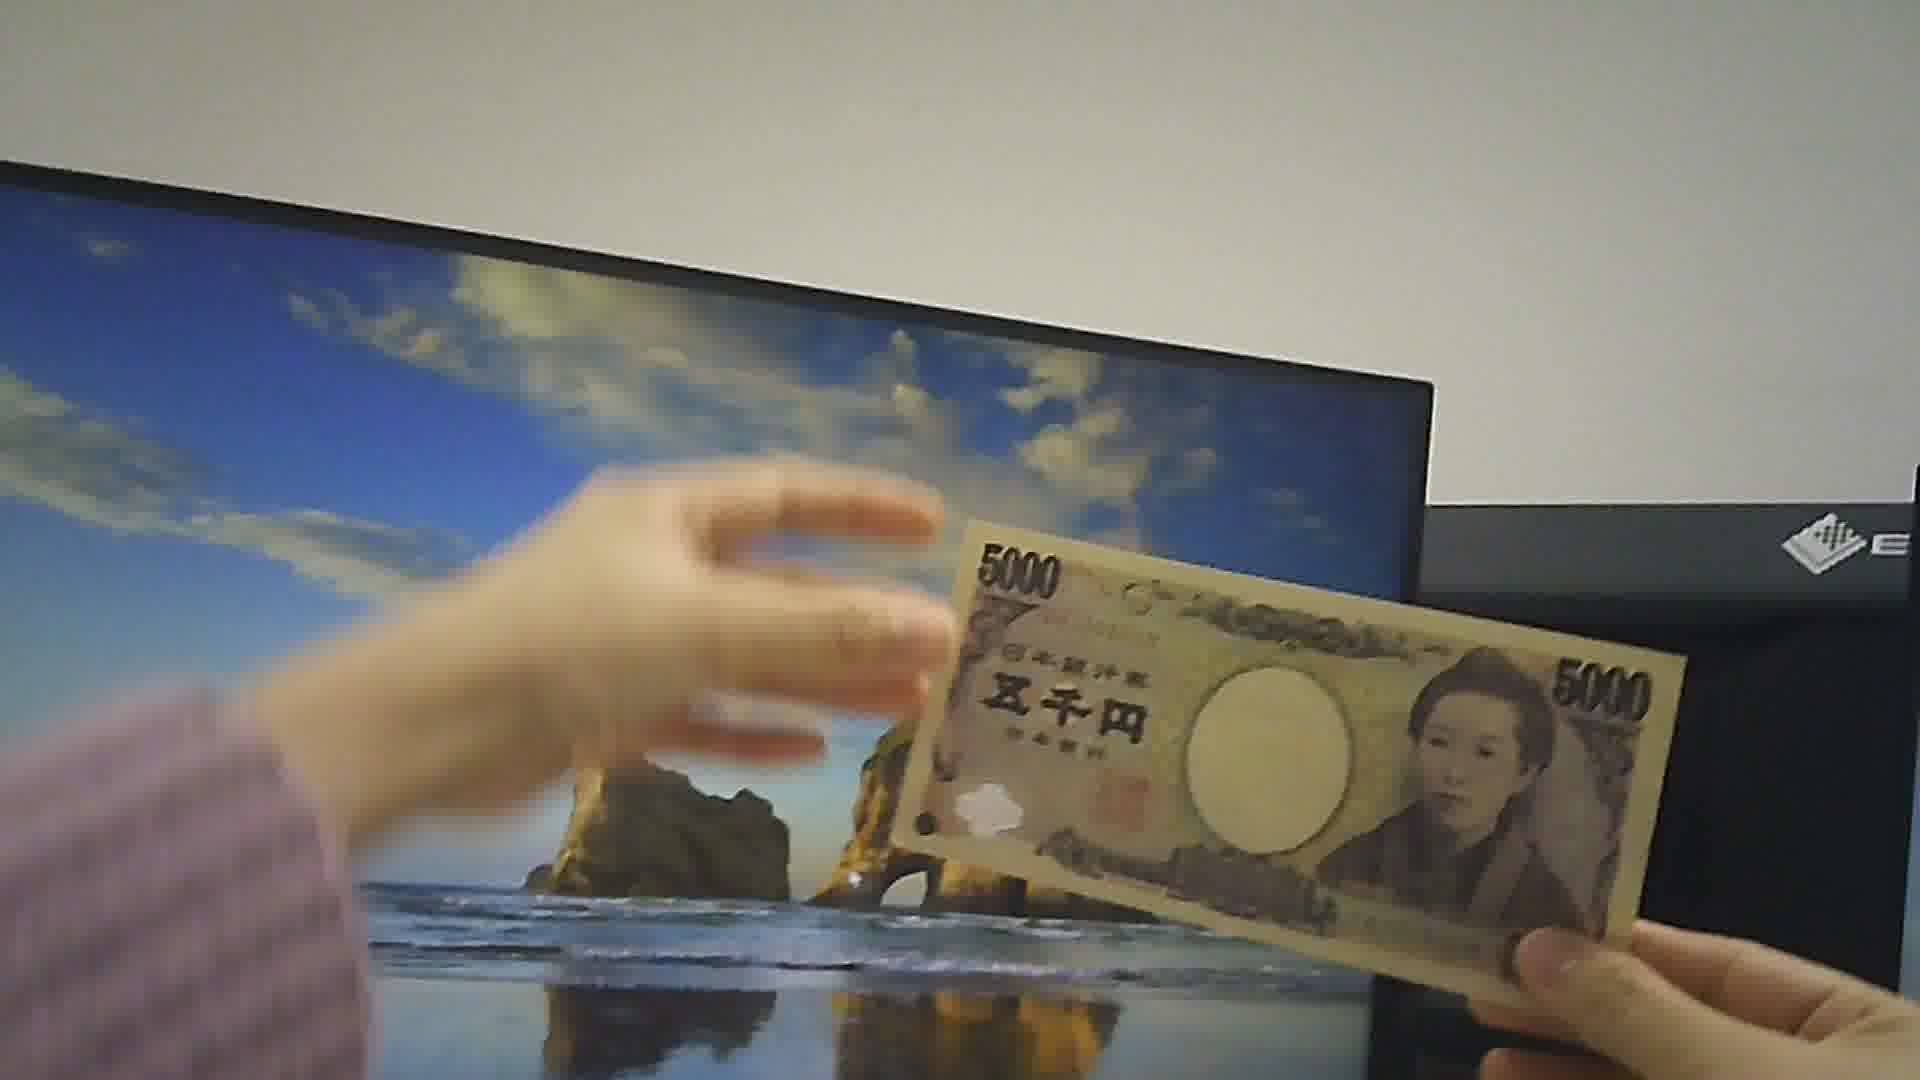5,000 Yen: (897, 509, 1651, 1036)
